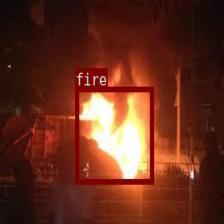fire: (74, 86, 154, 182)
